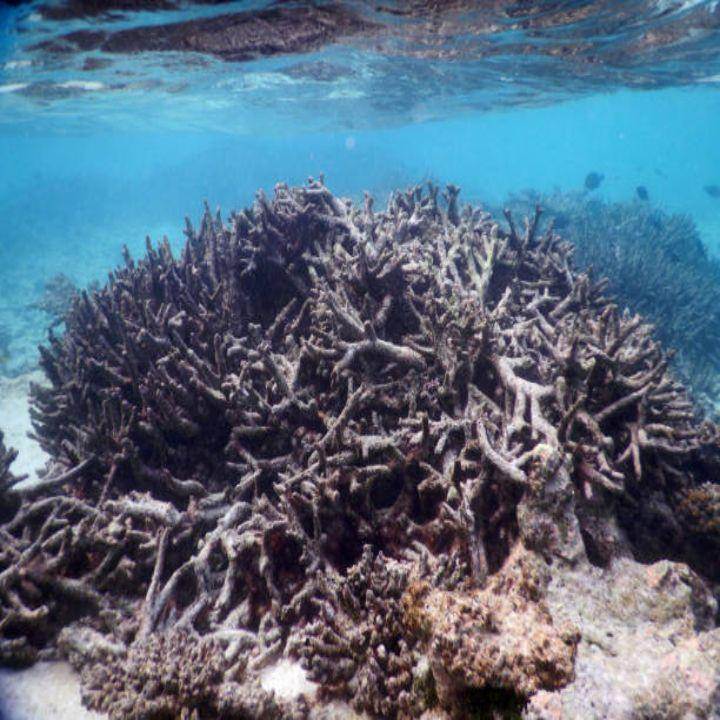Dead Coral: (40, 195, 677, 695)
